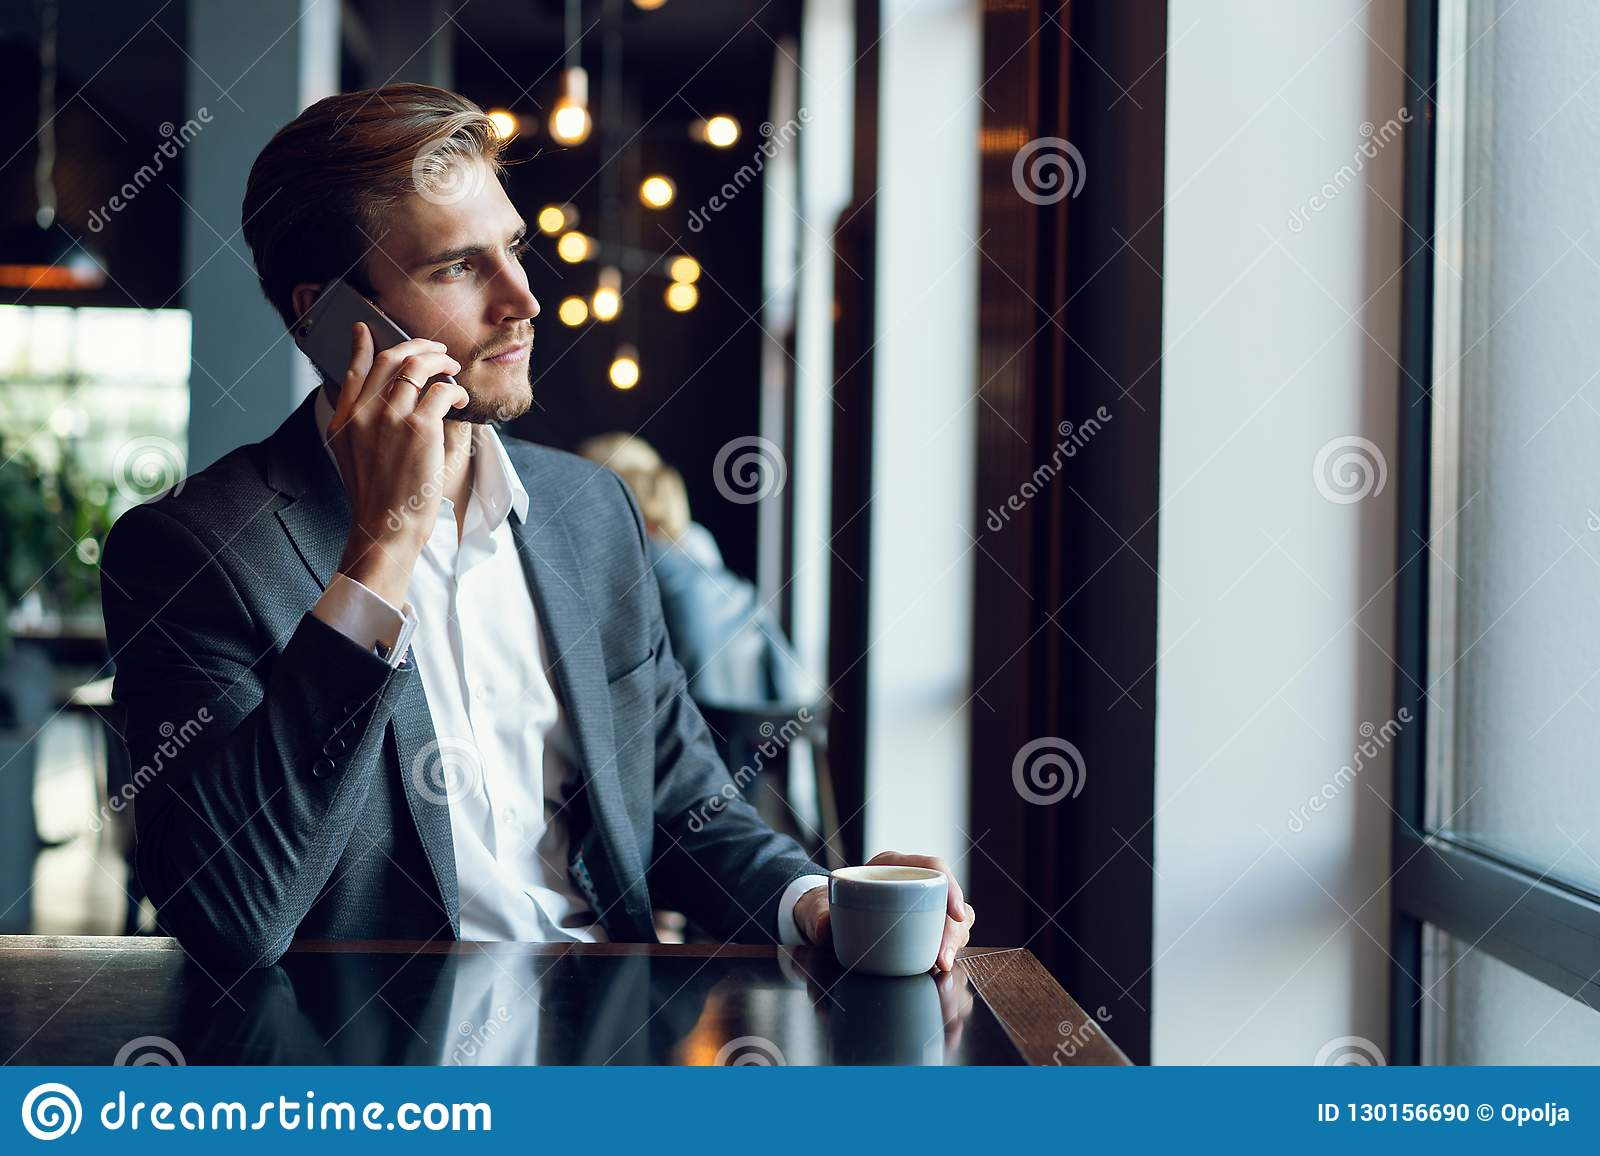phone: (298, 283, 455, 430)
talk: (296, 216, 542, 553)
